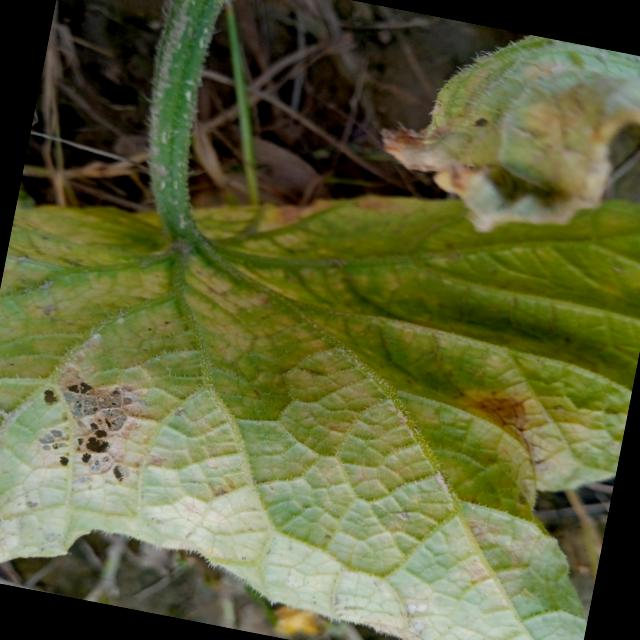cucumber_downy: (0, 162, 640, 640), (380, 13, 640, 265)
